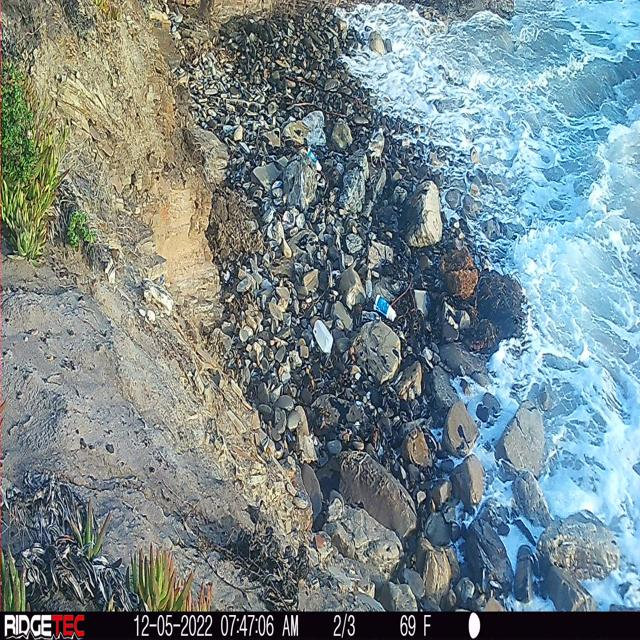bird: (365, 124, 389, 166)
